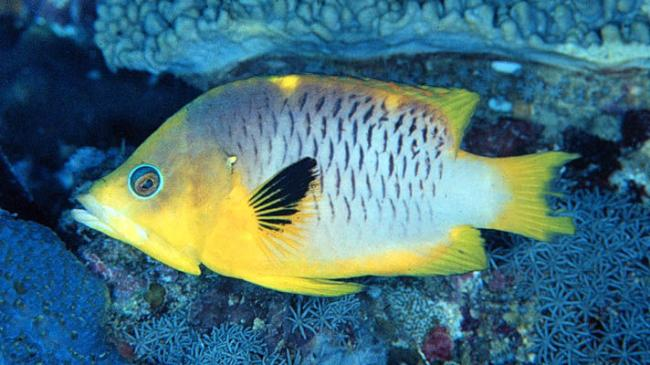fish: (71, 74, 582, 296)
